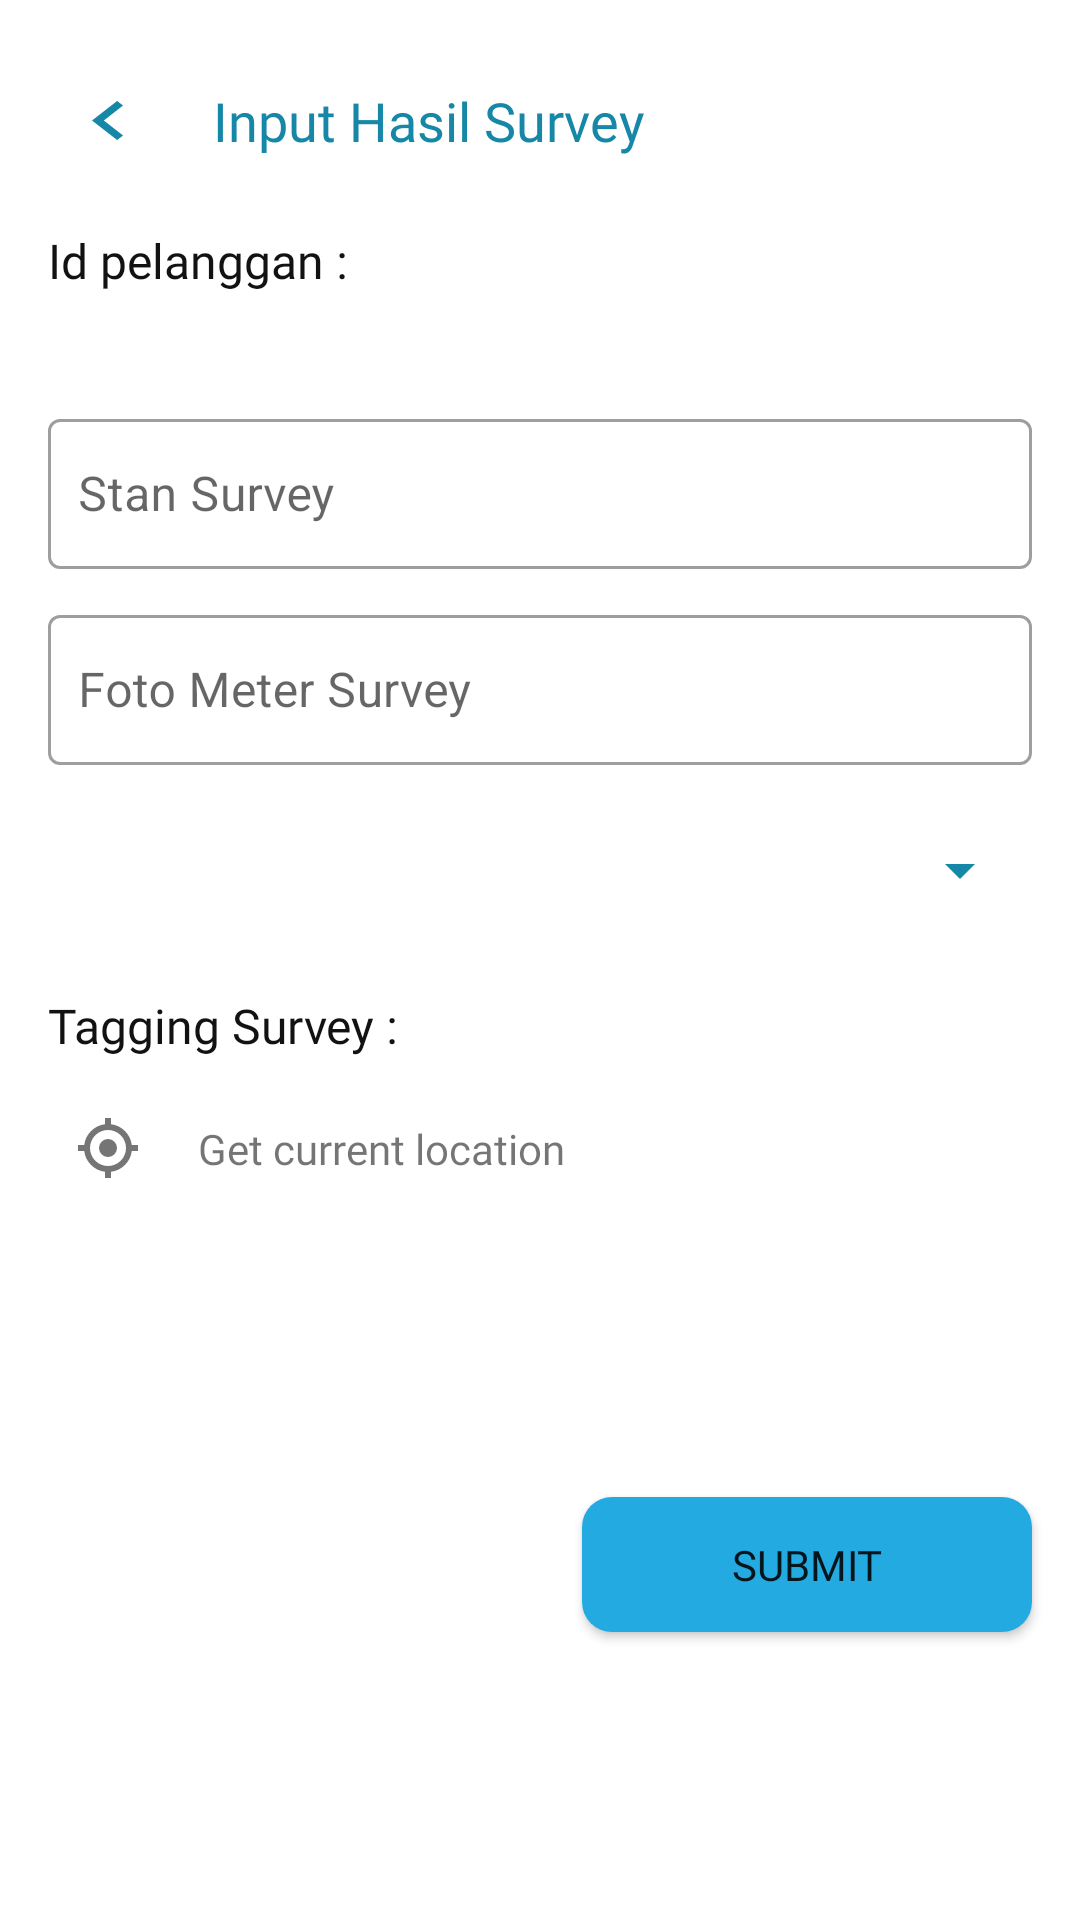

Named icons in this screenshot (1080w x 1920h) and their centers, (x,y):
back: (107,120)
